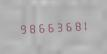eight: (26, 21, 34, 34), (71, 19, 79, 32)
nine: (17, 21, 25, 35)
one: (80, 18, 88, 32)
six: (35, 20, 43, 34), (44, 20, 52, 34), (62, 19, 70, 33)
three: (53, 20, 61, 33)
